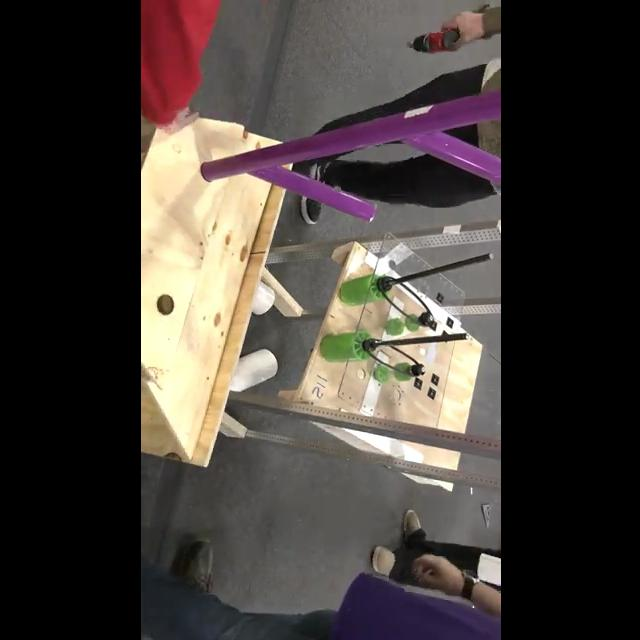CORAL: (228, 350, 280, 394), (250, 282, 274, 314)
